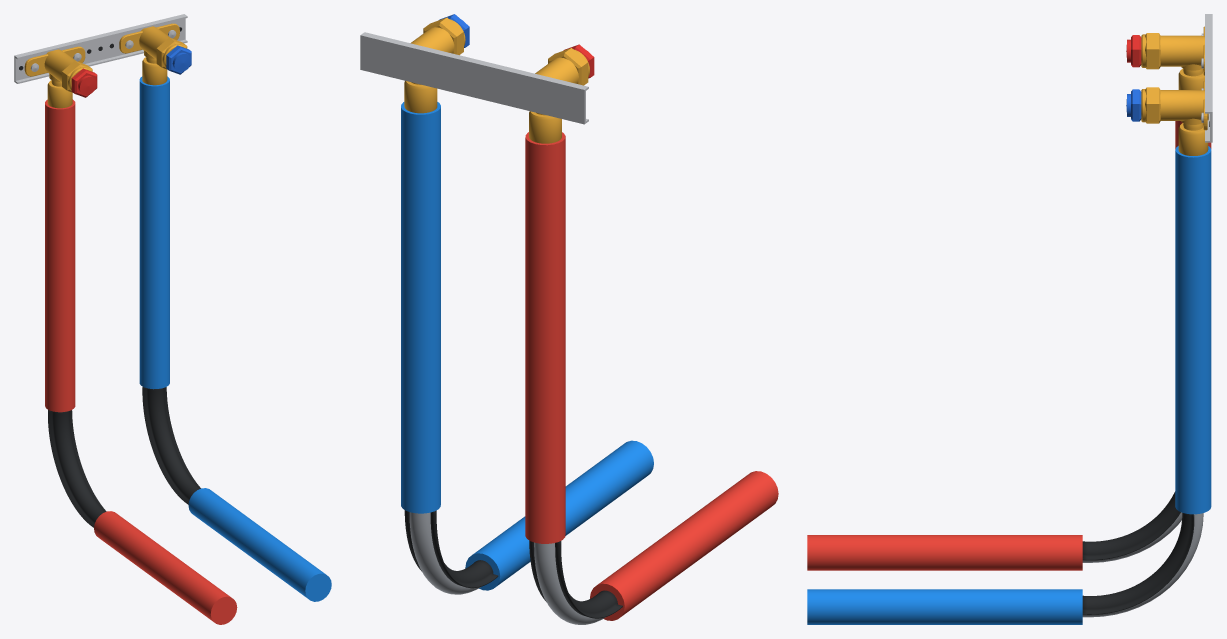
File: water_outlet_double100.glb
The picture shows the model from 3 angles, left to right: view 1: azimuth 30°, elevation 25°; view 2: azimuth 150°, elevation 25°; view 3: azimuth 270°, elevation 25°; orthographic projection. The views are drawn at different scales.
Parts seen in each view (by area): view 1: изоляция 18/6, изоляция 18/6.002, изоляция 18/6.003, изоляция 18/6.001, фиксатор 90, фиксатор 90.001, планка, отбортовка.001, корпус.001, корпус, ушко, ушко.001 (+2 smaller); view 2: изоляция 18/6, изоляция 18/6.002, изоляция 18/6.001, планка, изоляция 18/6.003, труба PEX 16.001, труба PEX 16, фиксатор 90, фиксатор 90.001, отбортовка.001, гильза.001, гильза (+4 smaller); view 3: изоляция 18/6.002, изоляция 18/6.001, изоляция 18/6.003, фиксатор 90.001, фиксатор 90, корпус, корпус.001, труба PEX 16.001, отбортовка.001, гильза.001, шестигранник гнезда, шестигранник гнезда.001.
Boxes of the visible parts, <box> form: изоляция 18/6: <box>45,99,75,412</box>; изоляция 18/6.002: <box>139,76,169,389</box>; изоляция 18/6.003: <box>188,488,331,601</box>; изоляция 18/6.001: <box>94,511,237,624</box>; фиксатор 90: <box>48,410,106,527</box>; фиксатор 90.001: <box>142,387,200,504</box>; планка: <box>14,18,185,80</box>; отбортовка.001: <box>14,14,187,59</box>; корпус.001: <box>139,26,186,67</box>; корпус: <box>44,49,91,90</box>; ушко: <box>24,46,85,76</box>; ушко.001: <box>119,23,179,53</box>; изоляция 18/6: <box>525,132,565,543</box>; изоляция 18/6.002: <box>401,102,440,513</box>; изоляция 18/6.001: <box>590,471,778,620</box>; планка: <box>360,36,585,123</box>; изоляция 18/6.003: <box>465,440,653,590</box>; труба PEX 16.001: <box>409,512,480,594</box>; труба PEX 16: <box>534,542,605,624</box>; фиксатор 90: <box>529,540,622,618</box>; фиксатор 90.001: <box>404,510,498,588</box>; отбортовка.001: <box>360,32,588,91</box>; гильза.001: <box>404,81,437,113</box>; гильза: <box>529,111,561,143</box>; изоляция 18/6.002: <box>1175,146,1211,514</box>; изоляция 18/6.001: <box>807,535,1082,570</box>; изоляция 18/6.003: <box>807,589,1082,624</box>; фиксатор 90.001: <box>1082,513,1194,614</box>; фиксатор 90: <box>1082,491,1180,560</box>; корпус: <box>1141,34,1204,67</box>; корпус.001: <box>1141,89,1208,122</box>; труба PEX 16.001: <box>1082,513,1203,617</box>; отбортовка.001: <box>1205,14,1212,113</box>; гильза.001: <box>1178,123,1208,155</box>; шестигранник гнезда: <box>1145,33,1160,69</box>; шестигранник гнезда.001: <box>1145,87,1160,123</box>.
Size of the model in its own units: 0.18 by 0.4596 by 0.315.
